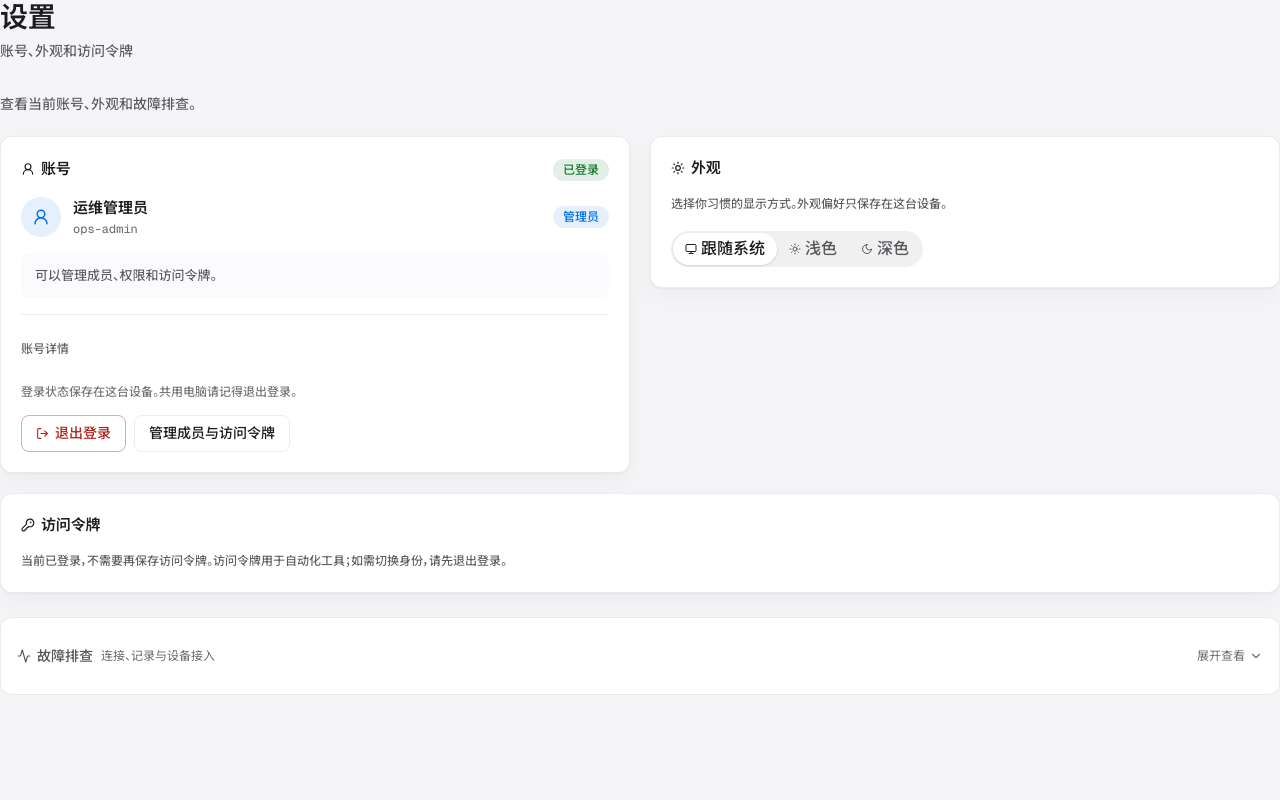
it: Settings 账号与令牌面板 › 鉴权行照 server 实际形态说话：账号模式绝不说成未启用
Click the heading "故障排查 连接、记录与设备接入 展开查看" at [65, 656], box [17,647,1263,665]
(page scrolled)
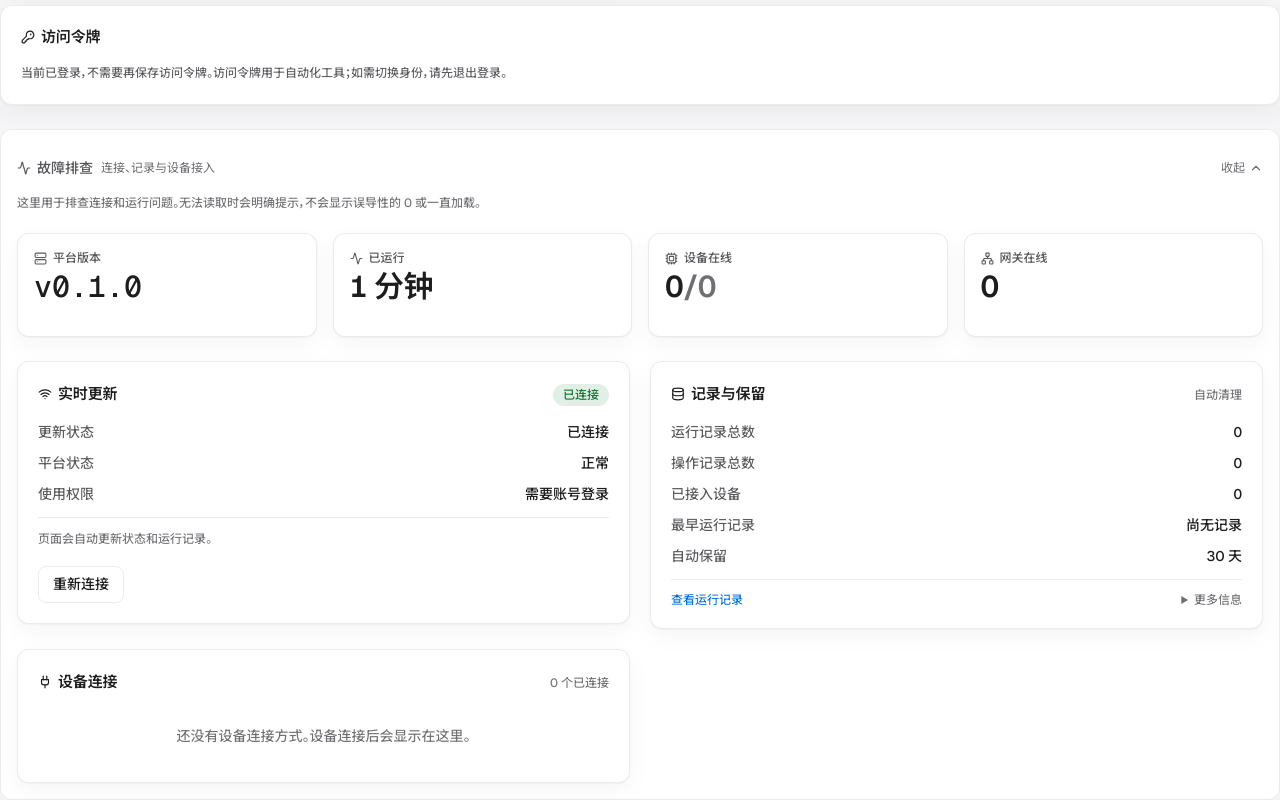
Result: the heading "故障排查 连接、记录与设备接入 收起" is shown at [17,159,1263,177]
Result: the text "需要账号登录" is shown at [525,484,609,505]
